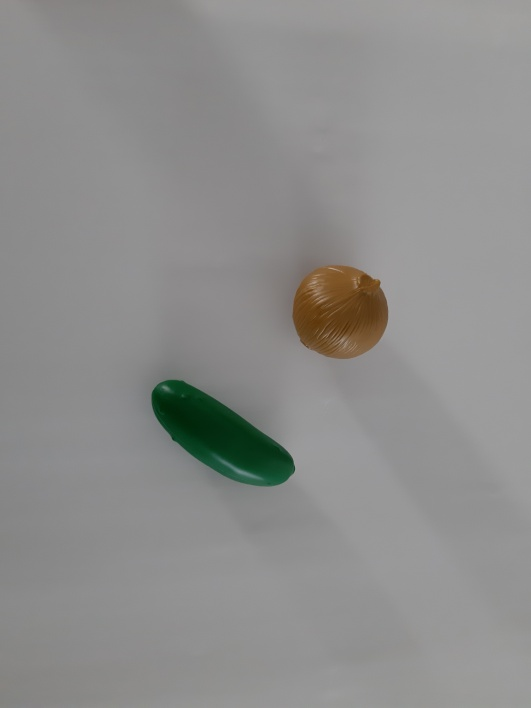cucumber: (114, 362, 323, 511)
onion: (268, 244, 413, 380)
